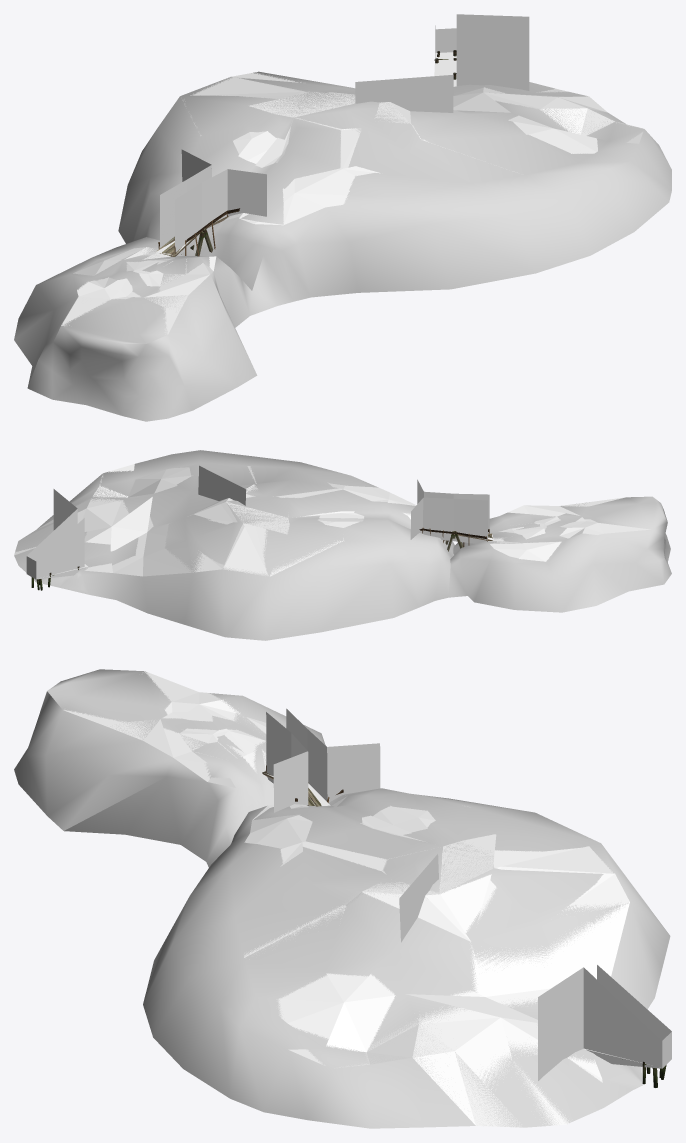
The model's file is pir_m_are_isl_rambleshack.obj.
3 renders of one model, top to bottom at view 1: azimuth 30°, elevation 25°; view 2: azimuth 150°, elevation 25°; view 3: azimuth 270°, elevation 25°, orthographic. The views are drawn at different scales.
Visible parts, largest first — view 1: island1, col_barrier_4, col_barrier_2, col_floor_14, col_barrier_3, col_floor_16, col_floor_8, col_floor_7, col_floor_11, col_barrier_1, col_floor_9, col_floor_4 (+3 smaller); view 2: island1, col_floor_7, col_floor_14, col_barrier_4, col_barrier_2, col_floor_8, col_floor_9, col_barrier_3, col_floor_11, col_floor_4, col_floor_16, col_barrier_1 (+2 smaller); view 3: island1, col_floor_7, col_floor_8, col_barrier_4, col_floor_14, col_barrier_1, col_barrier_2, col_floor_11, col_floor_15, col_floor_4, col_floor_9, col_floor_16 (+3 smaller).
Part boxes in pixels (bbox=[...]): island1: bbox=[14, 71, 671, 421]; col_barrier_4: bbox=[435, 14, 529, 90]; col_barrier_2: bbox=[160, 165, 227, 255]; col_floor_14: bbox=[190, 72, 355, 117]; col_barrier_3: bbox=[355, 74, 453, 112]; col_floor_16: bbox=[226, 154, 355, 225]; col_floor_8: bbox=[457, 87, 642, 143]; col_floor_7: bbox=[453, 92, 597, 153]; col_floor_11: bbox=[61, 274, 209, 334]; col_barrier_1: bbox=[181, 149, 266, 216]; col_floor_9: bbox=[73, 247, 170, 296]; col_floor_4: bbox=[180, 96, 380, 176]; island1: bbox=[14, 450, 671, 640]; col_floor_7: bbox=[110, 467, 192, 576]; col_floor_14: bbox=[192, 502, 289, 575]; col_barrier_4: bbox=[26, 489, 84, 579]; col_barrier_2: bbox=[423, 491, 489, 543]; col_floor_8: bbox=[14, 464, 134, 572]; col_floor_9: bbox=[488, 523, 603, 561]; col_barrier_3: bbox=[198, 465, 246, 505]; col_floor_11: bbox=[524, 497, 650, 533]; col_floor_4: bbox=[270, 482, 345, 576]; col_floor_16: bbox=[340, 485, 416, 519]; col_barrier_1: bbox=[410, 479, 423, 539]; island1: bbox=[14, 669, 670, 1128]; col_floor_7: bbox=[276, 902, 629, 1052]; col_floor_8: bbox=[288, 1017, 602, 1127]; col_barrier_4: bbox=[538, 965, 671, 1080]; col_floor_14: bbox=[439, 834, 629, 932]; col_barrier_1: bbox=[273, 743, 380, 812]; col_barrier_2: bbox=[266, 708, 327, 801]; col_floor_11: bbox=[63, 671, 199, 757]; col_floor_15: bbox=[244, 870, 470, 959]; col_floor_4: bbox=[280, 806, 495, 870]; col_floor_9: bbox=[188, 692, 266, 769]; col_floor_16: bbox=[244, 804, 374, 848].
Bounding box in the file's own units: 474 × 72.71 × 329.
